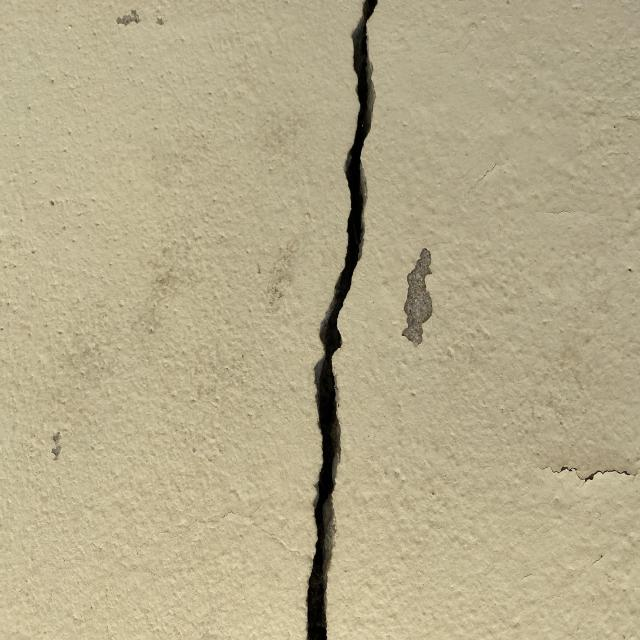SurfaceCrack: (249, 0, 440, 640), (541, 438, 640, 512)
